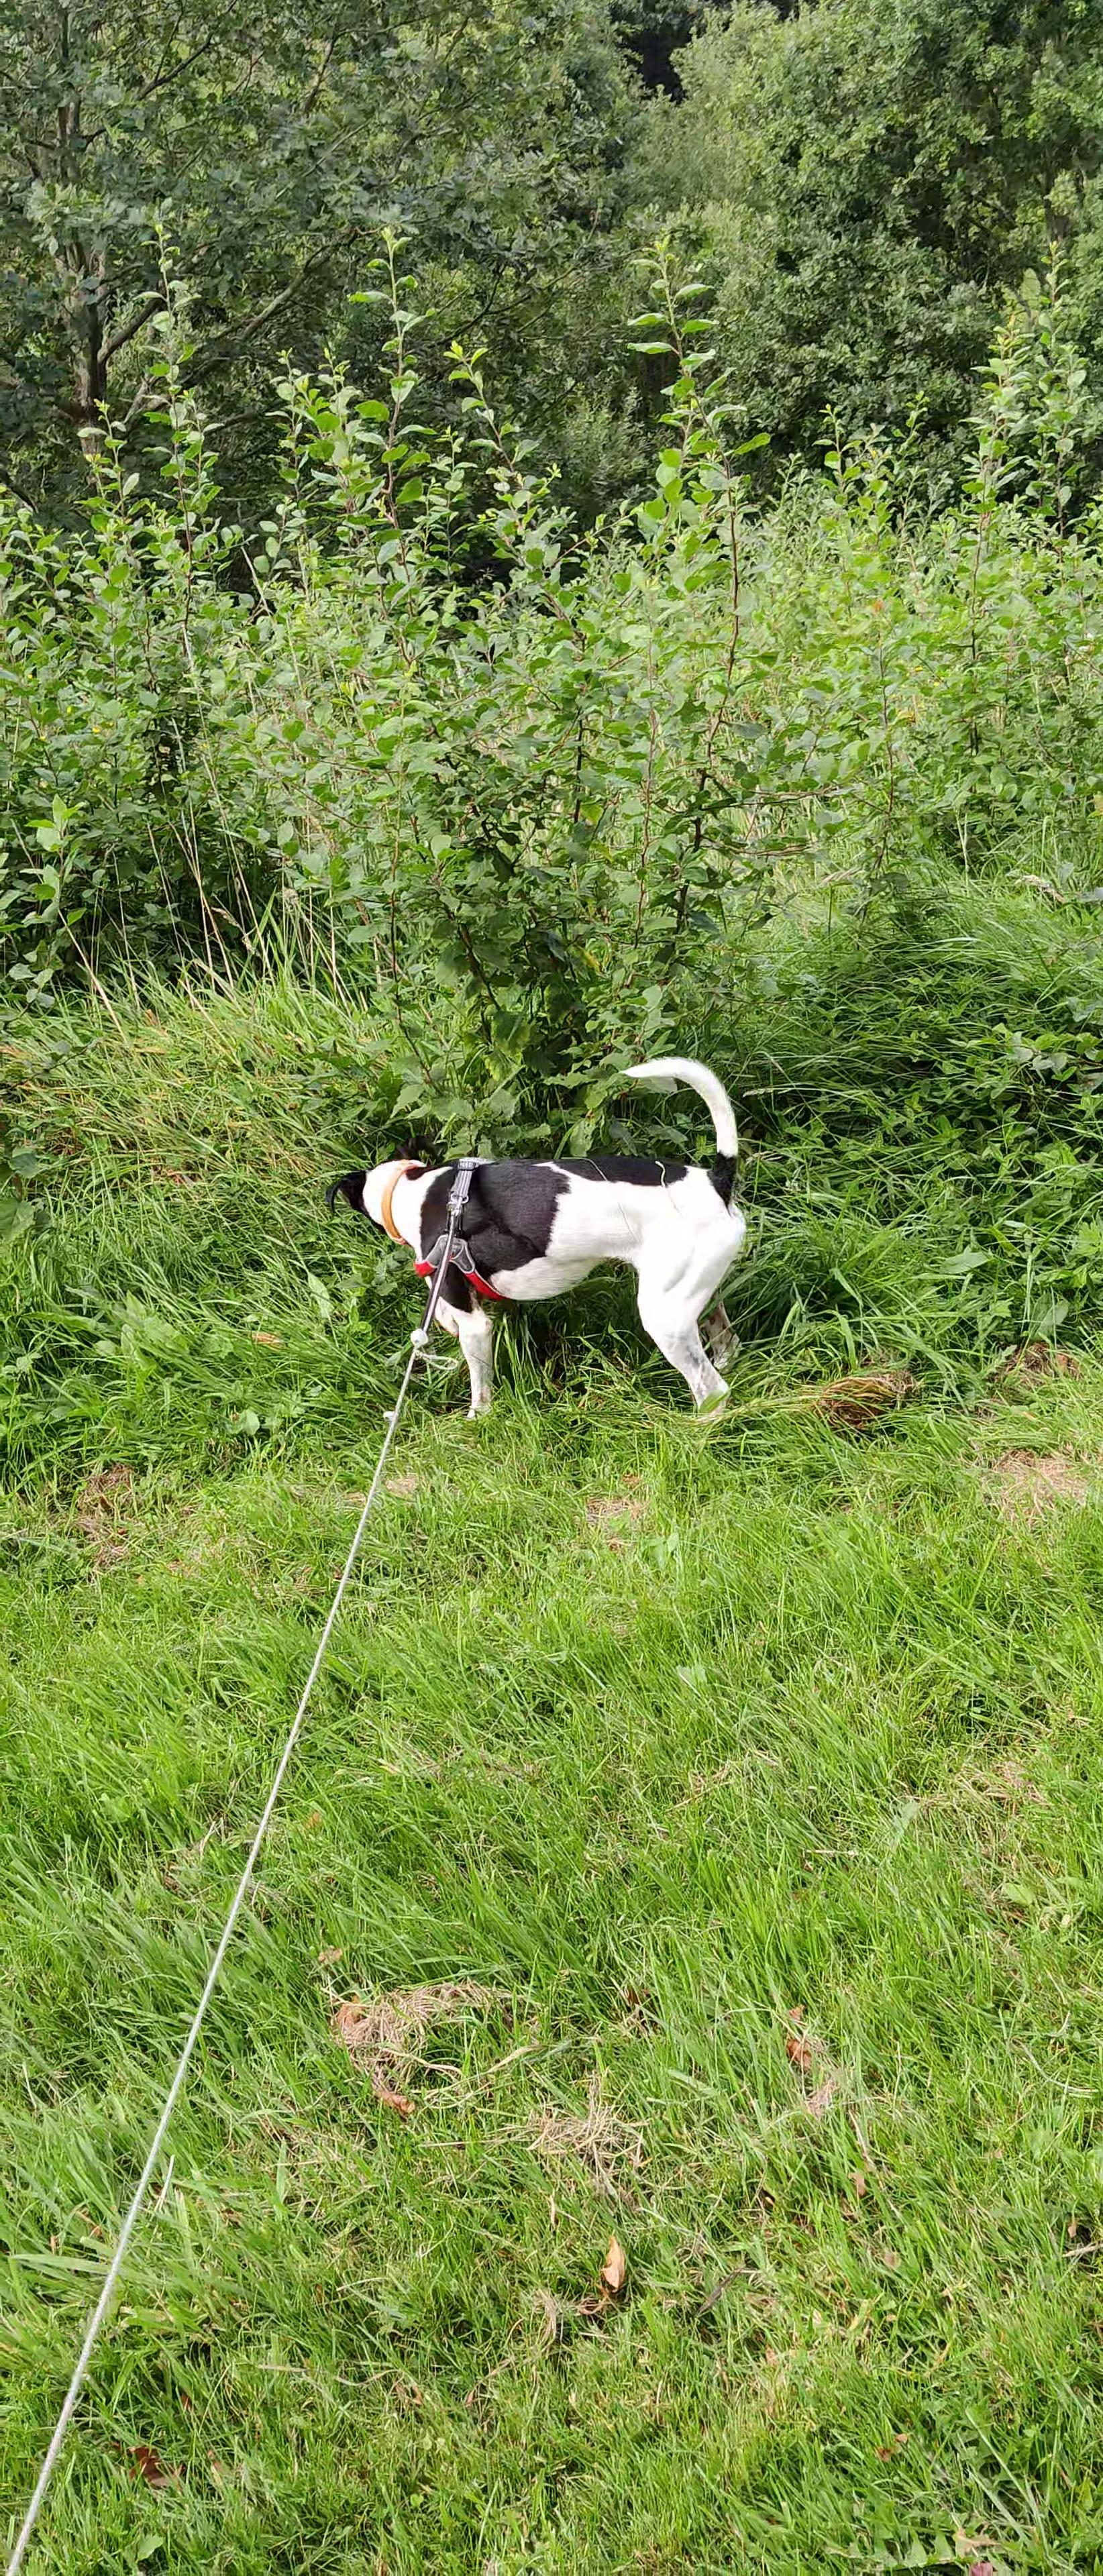Dog: (317, 1045, 769, 1446)
